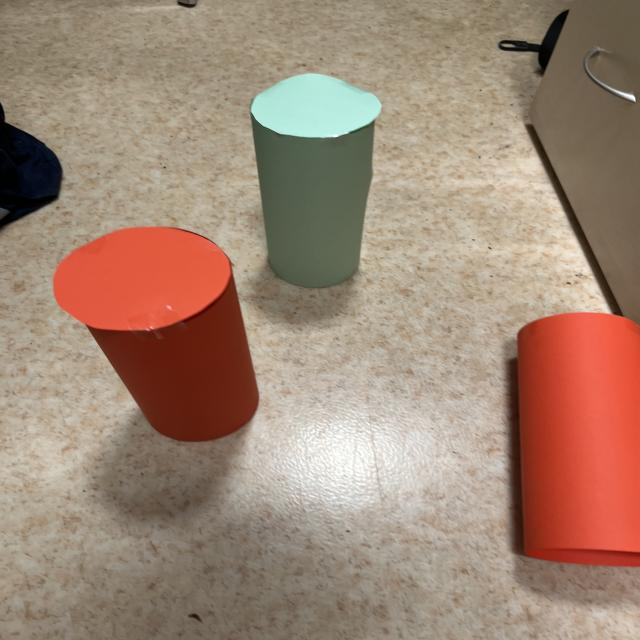meta: (250, 73, 381, 287)
przeszkoda: (53, 227, 259, 442), (517, 313, 640, 566)
